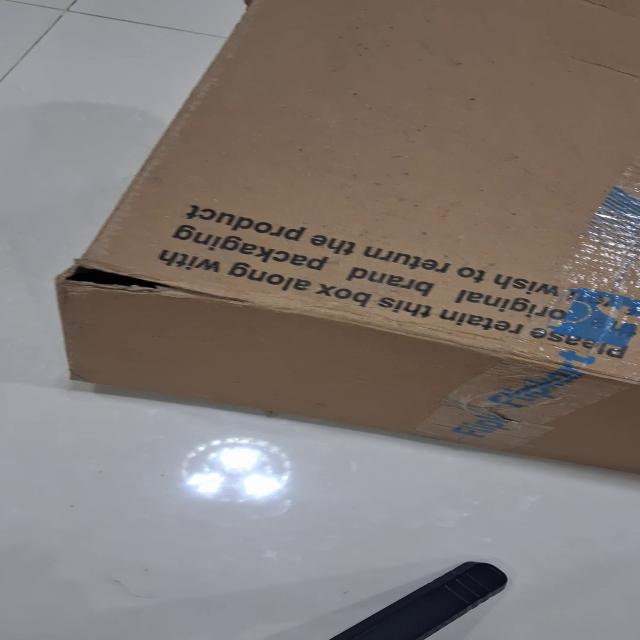paper: (53, 0, 639, 476)
